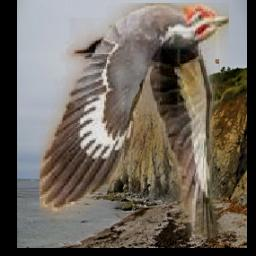Woodpecker: (39, 4, 228, 239)
